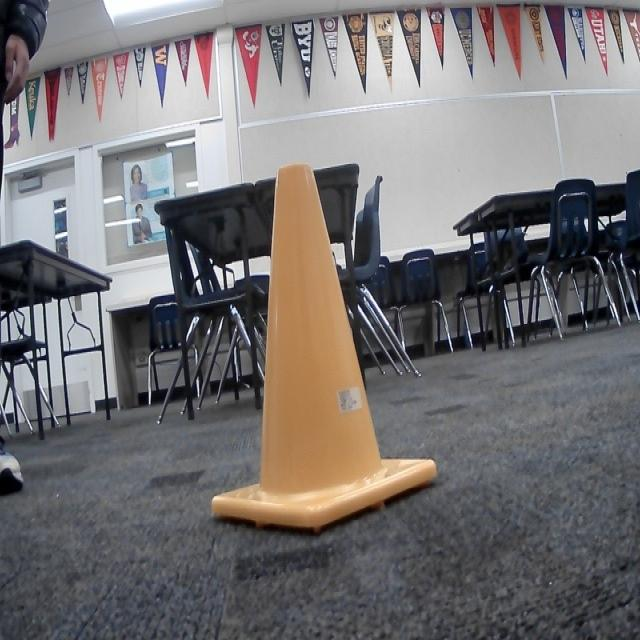cone: (203, 153, 442, 540)
